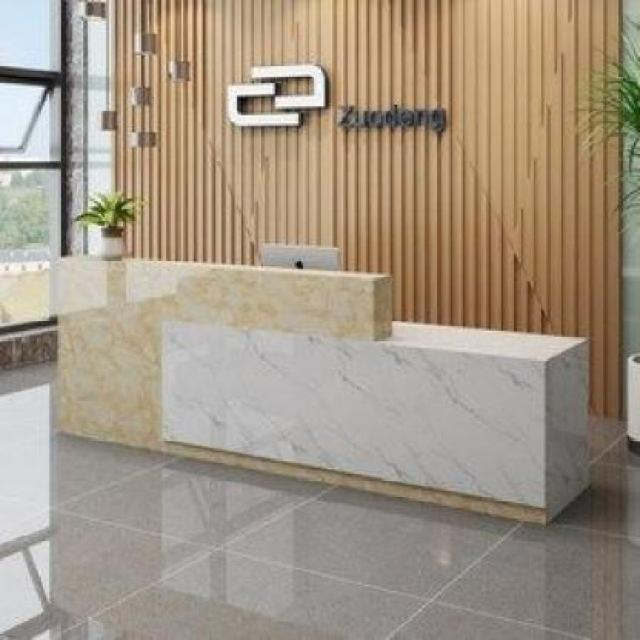frontdesk: (34, 232, 617, 535)
